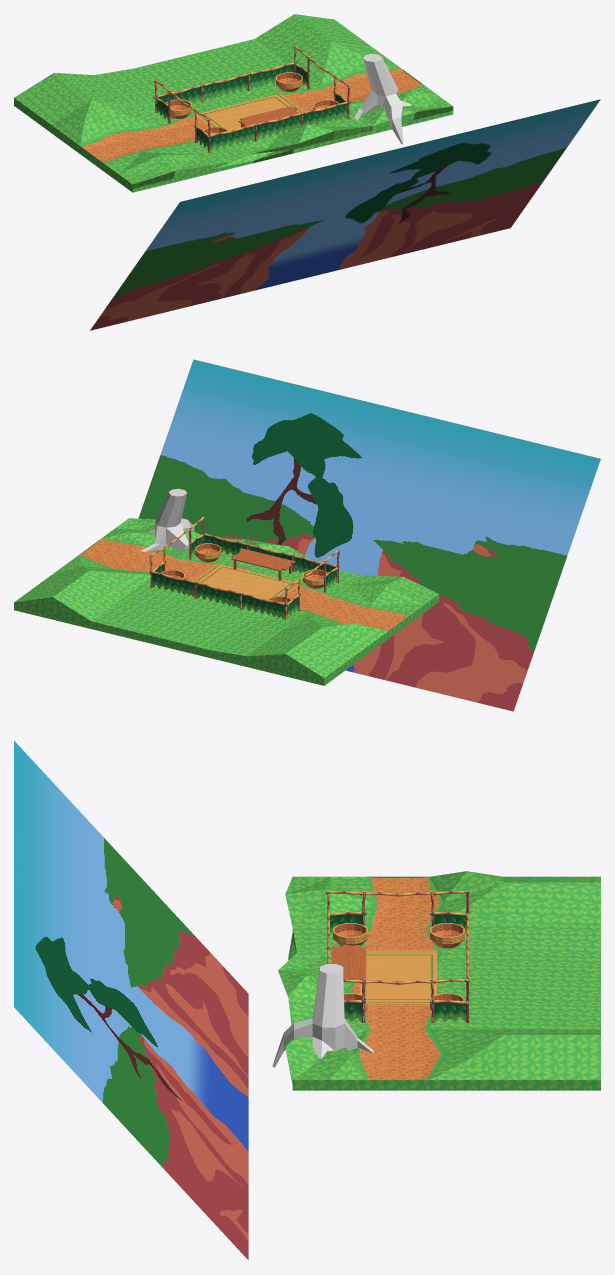
The model's file is Modelo_Cenario.fbx.
The picture shows the model from 3 angles, top to bottom: view 1: azimuth 30°, elevation 25°; view 2: azimuth 150°, elevation 25°; view 3: azimuth 270°, elevation 25°; orthographic projection. The views are drawn at different scales.
Parts seen in each view (by area): view 1: fundo, terreno, arvore, tapete, plane_1, plane_5, plane, plane_2, plane_9, cesta_1; view 2: fundo, terreno, tapete, arvore, plane_9, plane_5, plane_8; view 3: fundo, terreno, tapete, arvore, cesta, cesta_2.
Part boxes in pixels (left/top/right/bottom): fundo: left=90, top=99, right=600, bottom=330; terreno: left=14, top=14, right=453, bottom=192; arvore: left=354, top=54, right=411, bottom=144; tapete: left=193, top=93, right=305, bottom=130; plane_1: left=210, top=126, right=254, bottom=151; plane_5: left=203, top=76, right=247, bottom=100; plane: left=256, top=115, right=301, bottom=140; plane_2: left=303, top=103, right=347, bottom=125; plane_9: left=249, top=64, right=294, bottom=89; cesta_1: left=276, top=72, right=302, bottom=91; fundo: left=138, top=359, right=600, bottom=711; terreno: left=14, top=518, right=439, bottom=685; tapete: left=192, top=563, right=302, bottom=599; arvore: left=140, top=488, right=194, bottom=551; plane_9: left=152, top=573, right=195, bottom=597; plane_5: left=197, top=584, right=240, bottom=608; plane_8: left=242, top=595, right=285, bottom=618; fundo: left=14, top=741, right=248, bottom=1260; terreno: left=278, top=871, right=600, bottom=1090; tapete: left=359, top=949, right=437, bottom=1005; arvore: left=272, top=964, right=373, bottom=1067; cesta: left=430, top=923, right=464, bottom=948; cesta_2: left=333, top=923, right=367, bottom=946.
Bounding box in the file's own units: 2725 × 1207 × 2533.
6 materials, 6 textured.
